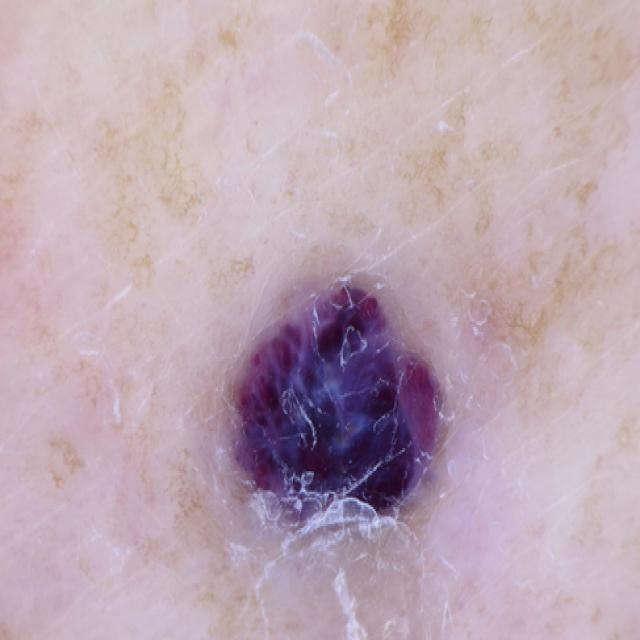Vascular Lesions: (213, 250, 471, 554)
